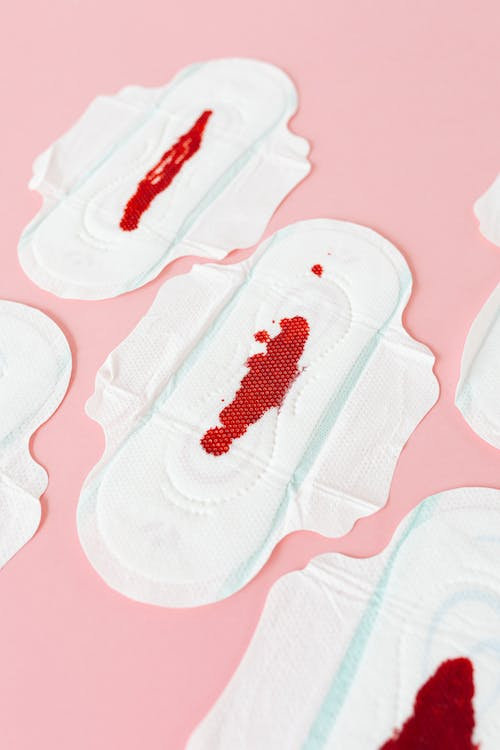blood: (195, 313, 317, 461), (116, 102, 217, 236), (368, 653, 488, 750), (306, 249, 333, 281)
